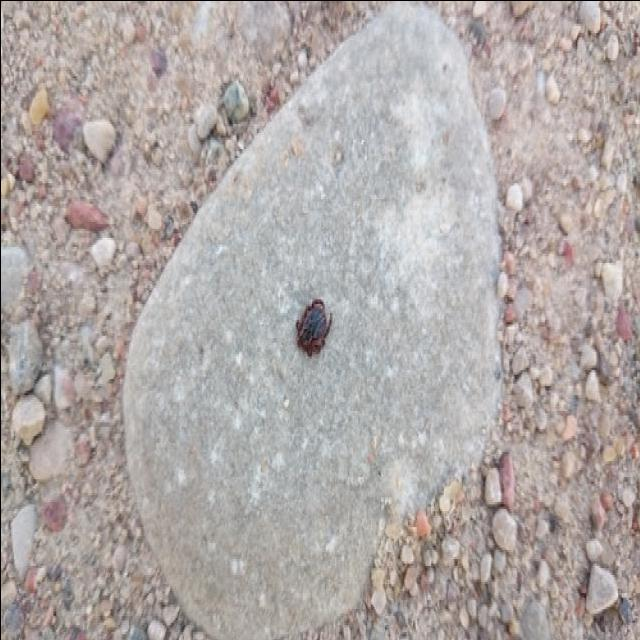Dermacentor Reticulatus-M: (292, 296, 337, 360)
